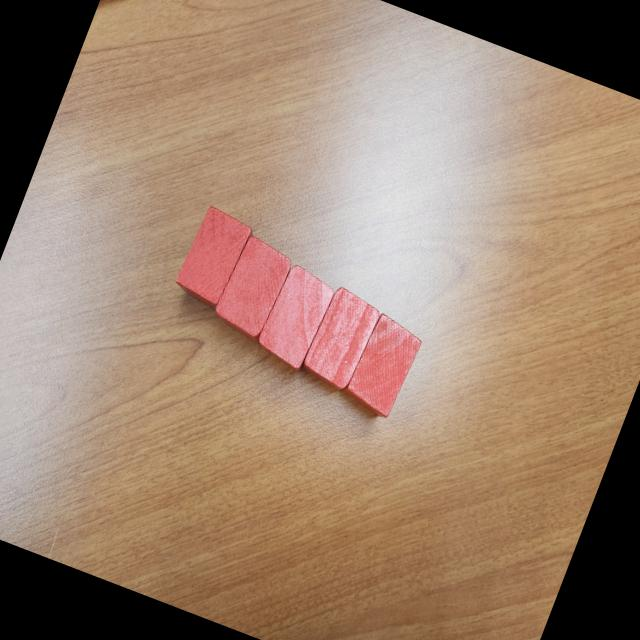red: (170, 203, 258, 313), (215, 234, 290, 345), (258, 265, 334, 370), (342, 314, 420, 416), (303, 288, 378, 391)
